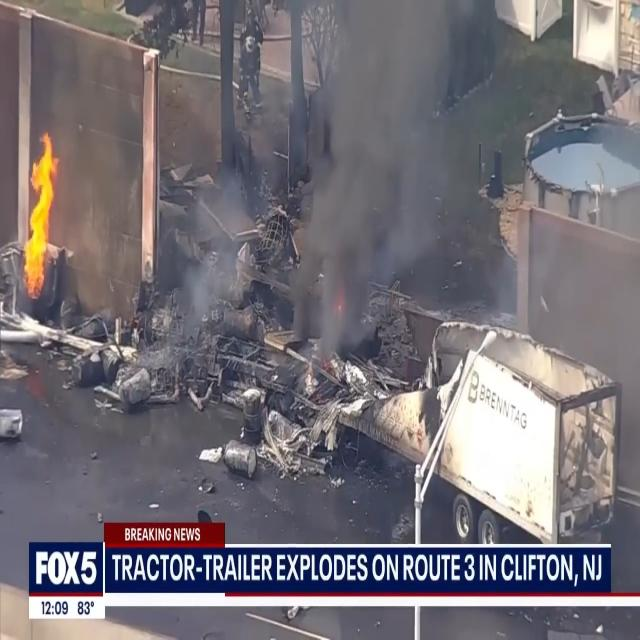fire: (21, 125, 60, 302)
